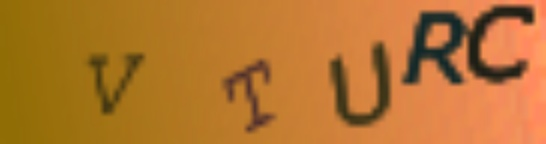C: (465, 1, 540, 86)
R: (398, 9, 468, 88)
T: (219, 54, 280, 134)
U: (324, 38, 394, 129)
V: (87, 49, 150, 116)
